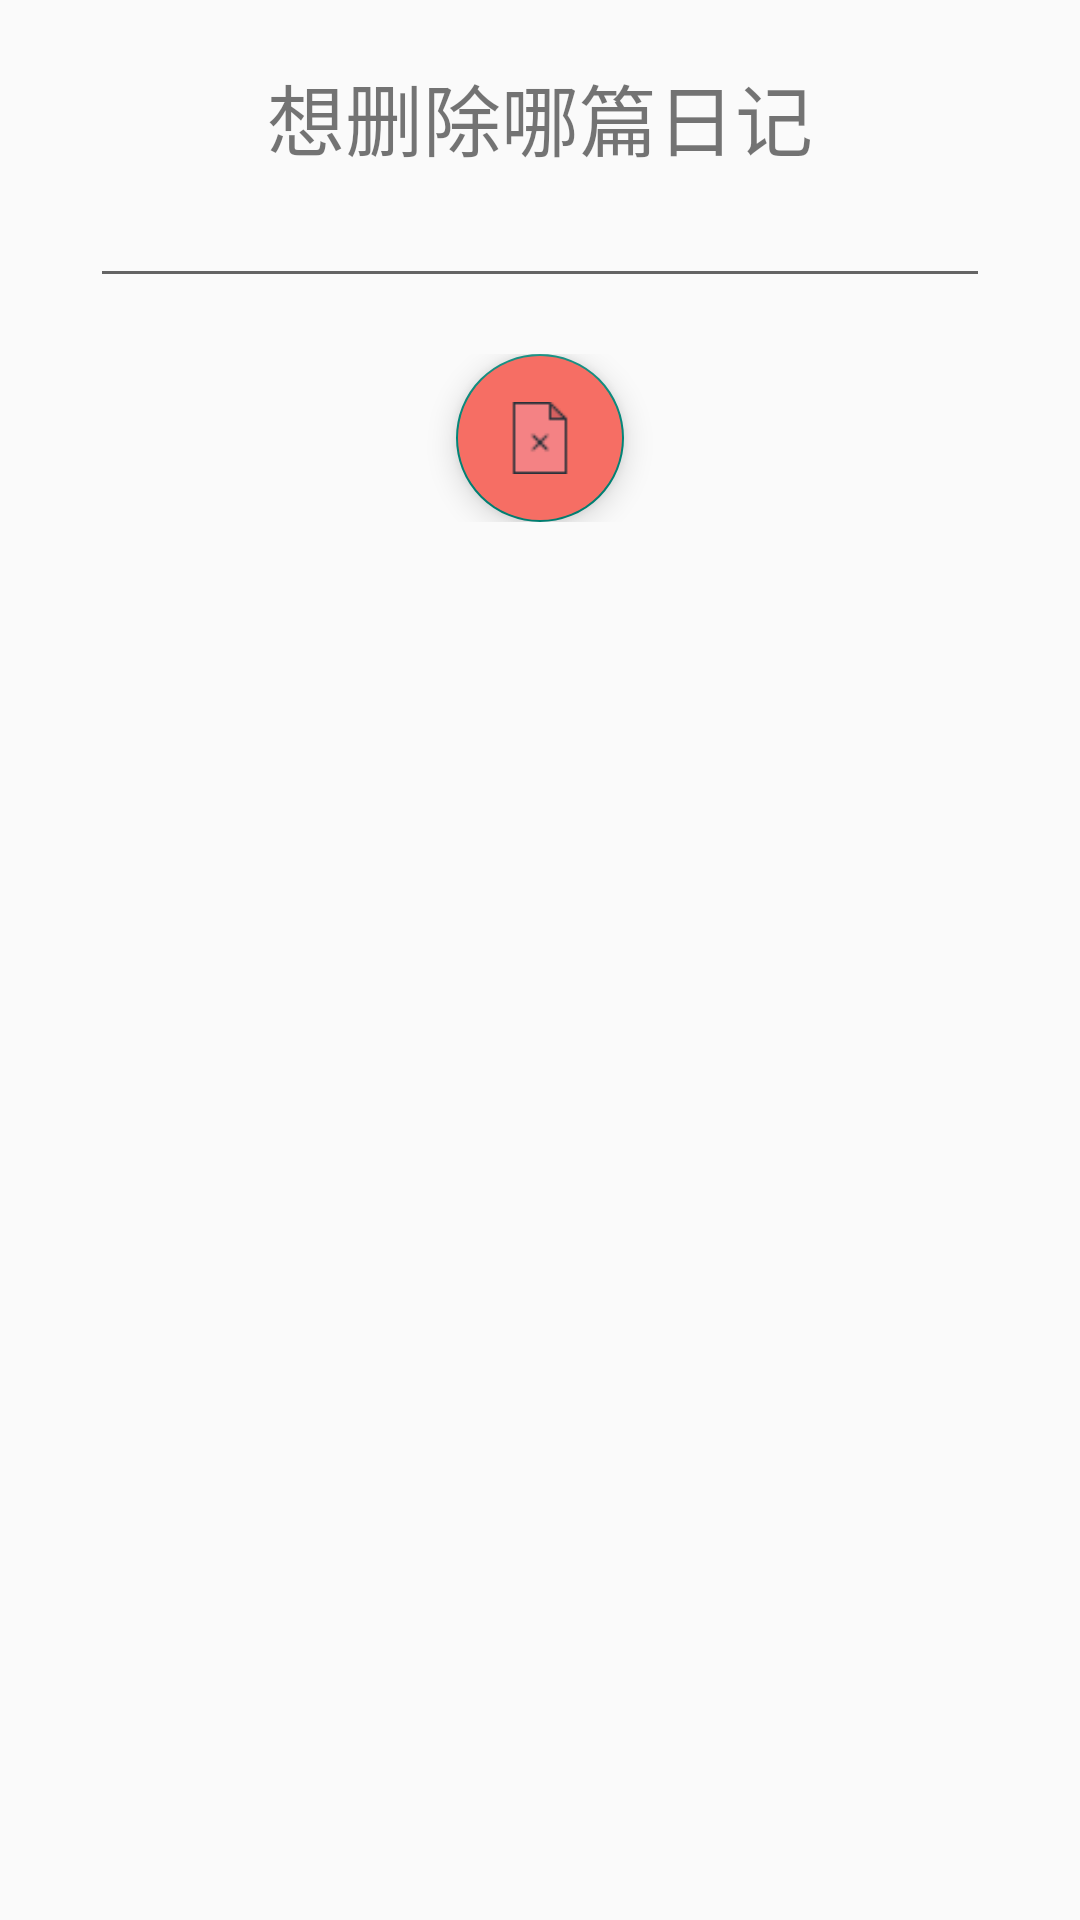

Icons on this 1080×1920 Android screen, each with its box as (x1, y1, x2, y2):
delete one: (456, 354, 624, 522)
